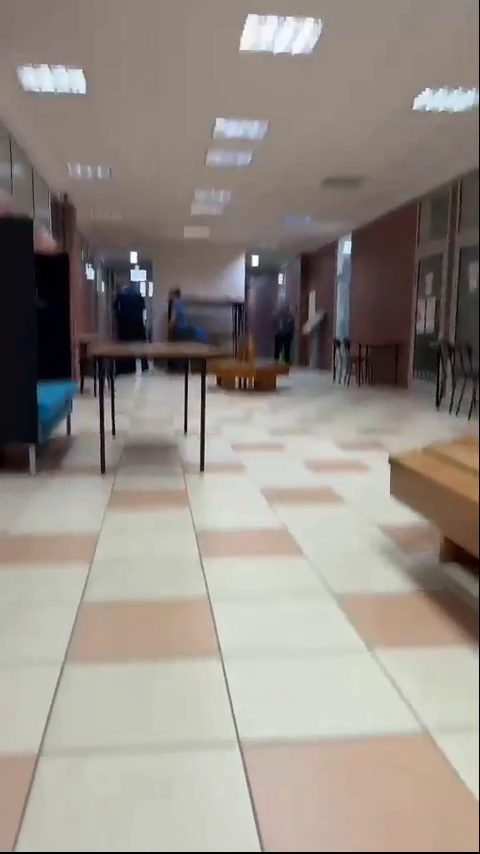no vest: (264, 300, 307, 363), (116, 276, 147, 358), (164, 288, 200, 337)
